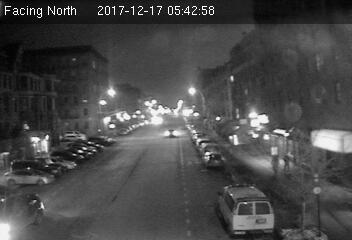car: (164, 128, 179, 139)
pedestrian: (269, 153, 279, 177), (281, 154, 291, 174)
police: (216, 182, 275, 233)
